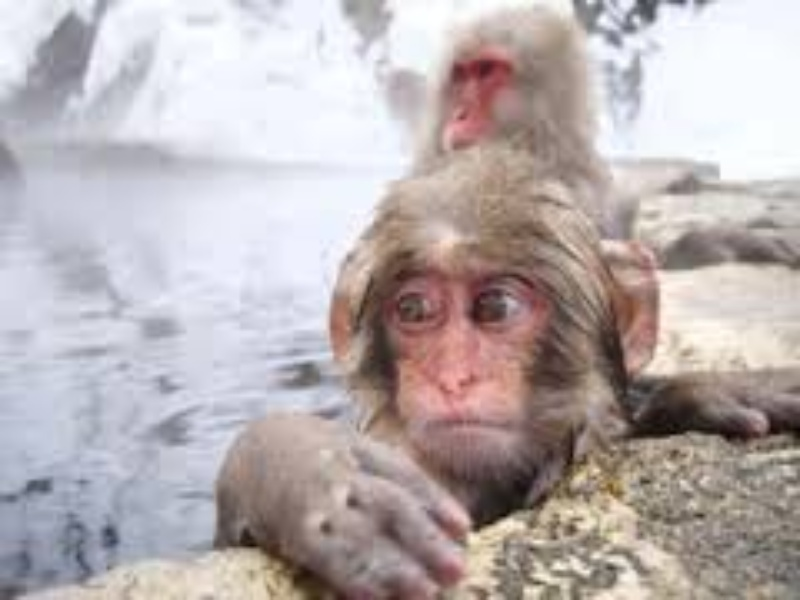monkey: (230, 168, 788, 584), (397, 11, 643, 161)
